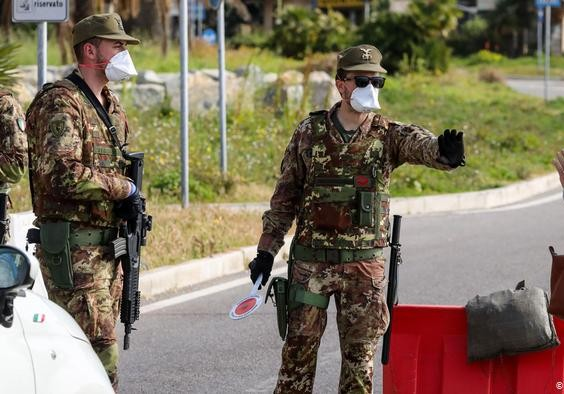with_mask: (71, 19, 143, 89), (332, 52, 389, 115)
